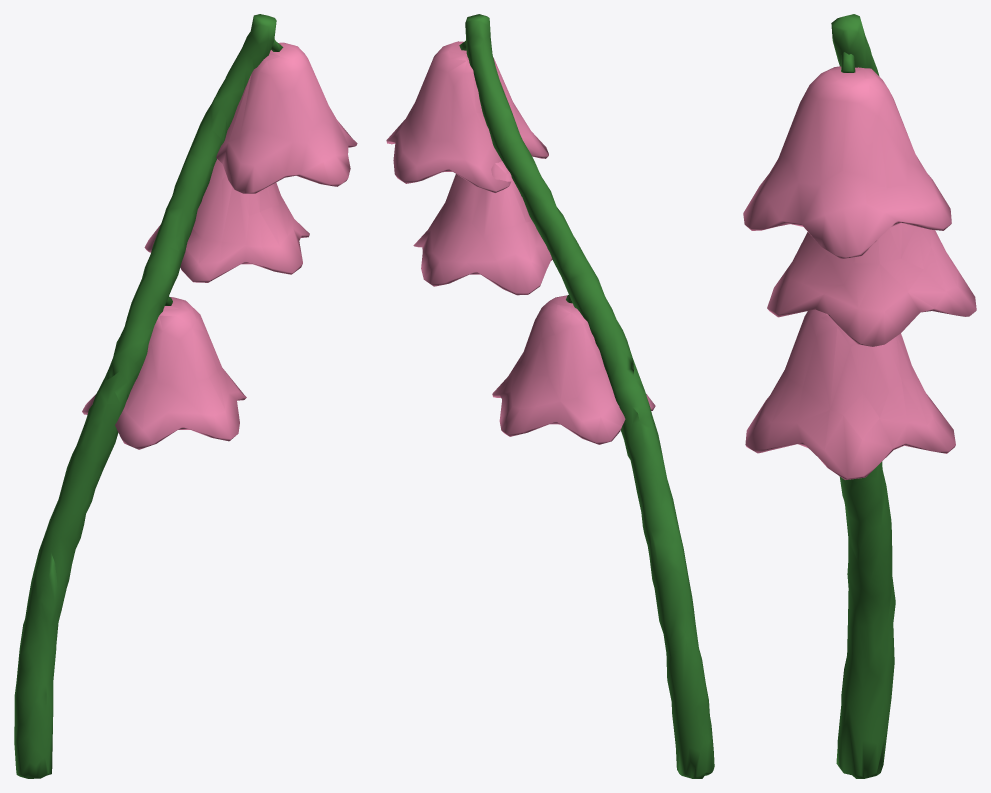
Rendered from glade_flower_bell_lod1.glb.
The picture shows the model from 3 angles, left to right: view 1: azimuth 30°, elevation 25°; view 2: azimuth 150°, elevation 25°; view 3: azimuth 270°, elevation 25°; orthographic projection. The views are drawn at different scales.
Parts seen in each view (by area): view 1: glade_flower_bell.001; view 2: glade_flower_bell.001; view 3: glade_flower_bell.001.
Part boxes in pixels (left/top/right/bottom): glade_flower_bell.001: left=14, top=14, right=357, bottom=778; glade_flower_bell.001: left=386, top=14, right=714, bottom=778; glade_flower_bell.001: left=743, top=14, right=976, bottom=778.
Bounding box in the file's own units: 7.85 × 15.99 × 3.8.
